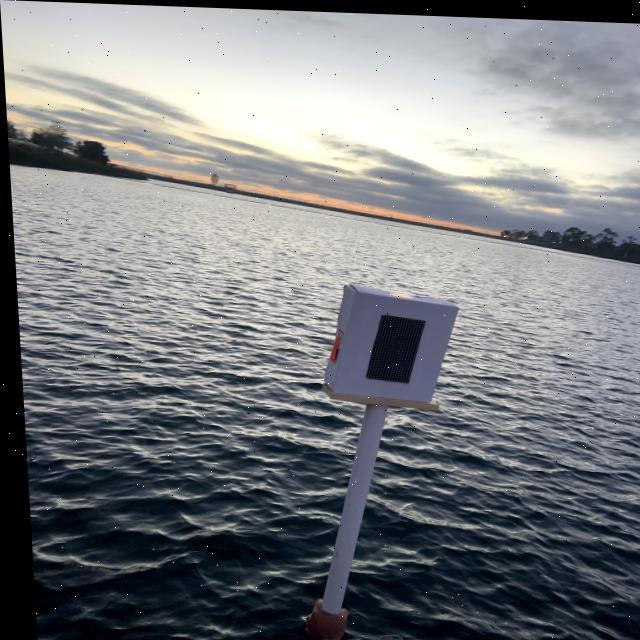led: (340, 289, 425, 401)
